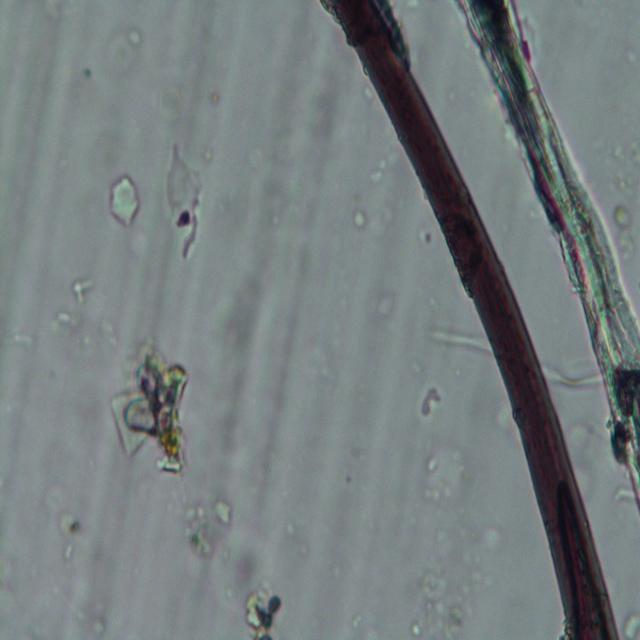Background material: (201, 266, 270, 459), (234, 89, 304, 269), (108, 340, 190, 476), (414, 513, 498, 640), (24, 312, 122, 364), (37, 568, 114, 630), (416, 438, 476, 515), (165, 143, 203, 260), (205, 532, 265, 604), (178, 494, 230, 558), (240, 577, 284, 640), (106, 171, 142, 230), (606, 195, 637, 252), (112, 24, 146, 70), (57, 511, 83, 562), (374, 286, 398, 325), (418, 382, 444, 418), (72, 277, 96, 306), (622, 612, 640, 640), (352, 205, 366, 236)
Cellulose filter fibre: (425, 323, 495, 356), (544, 358, 604, 391)
Cotton: (459, 0, 640, 507)
Microfibre: (327, 0, 623, 640)
